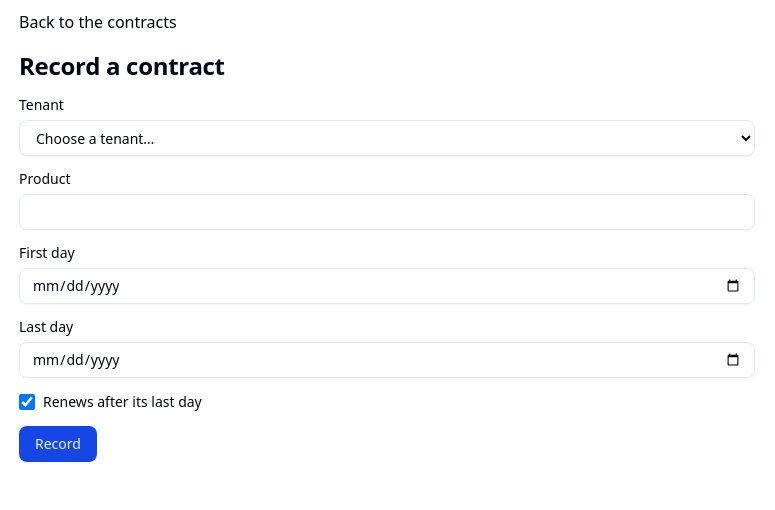
it: the API's refusal is shown next to the field it is about
Select "tenant-b" in the dropdown labelled "Tenant": point(387, 138) [19,120,755,156]
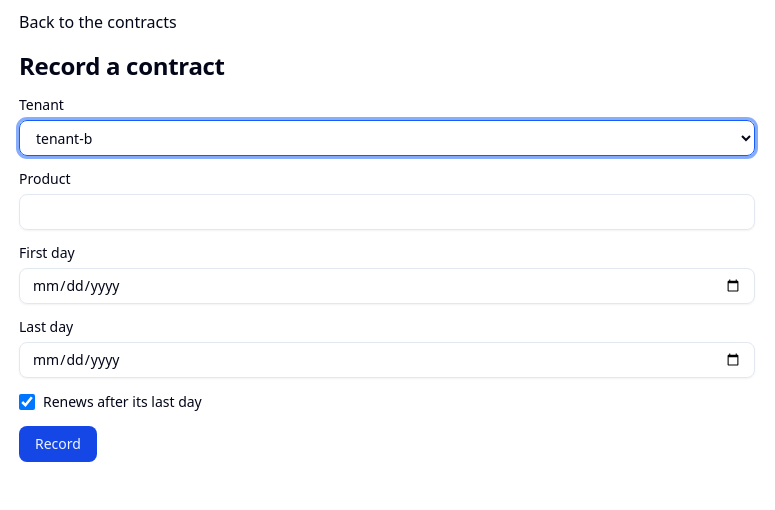
In the field labelled "Product": point(387, 212) [19,194,755,230], type "Hosting"
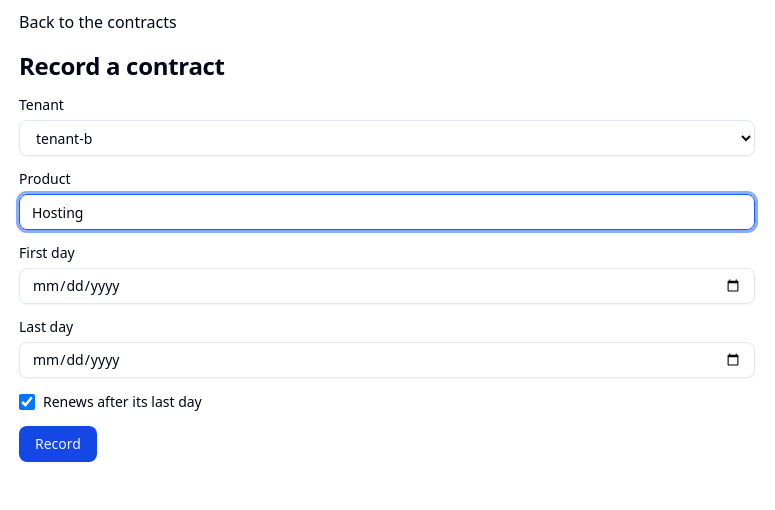
In the date field labelled "First day": point(387, 286) [19,268,755,304], type "2026-01-01"
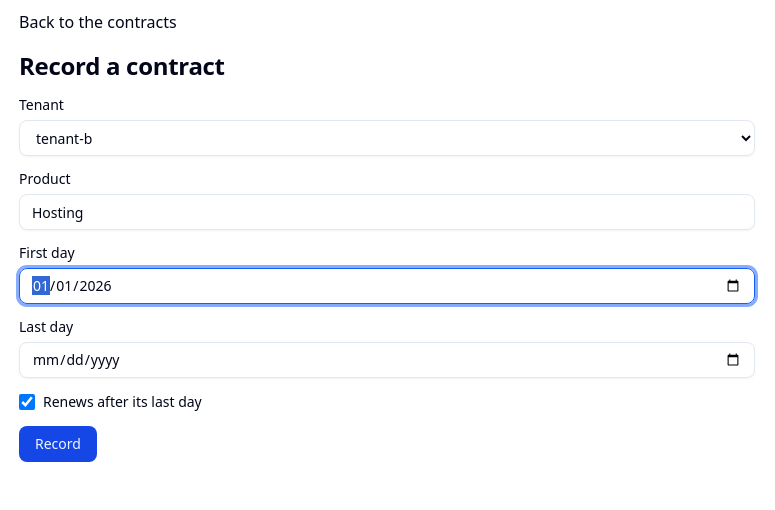
In the date field labelled "Last day": point(387, 360) [19,342,755,378], type "2026-12-31"
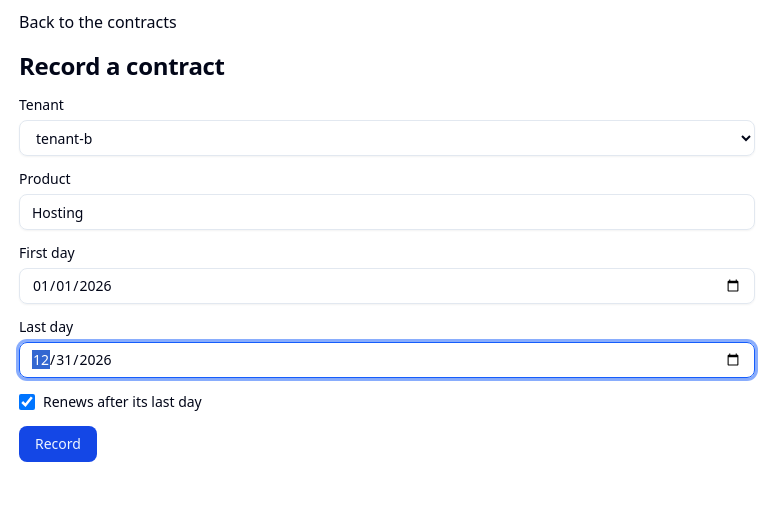
Click the button "Record": point(58, 444) [19,426,97,462]
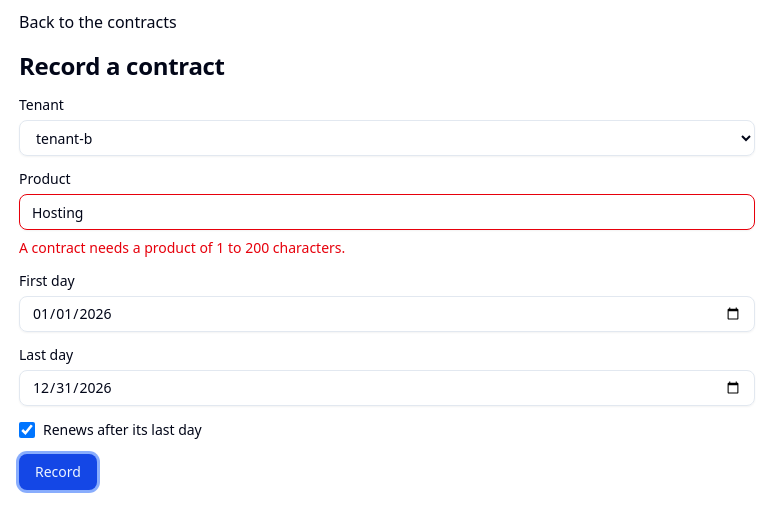
Check: the message reads "A contract needs a product of 1 to 200 characters.", box [19,238,345,257]
